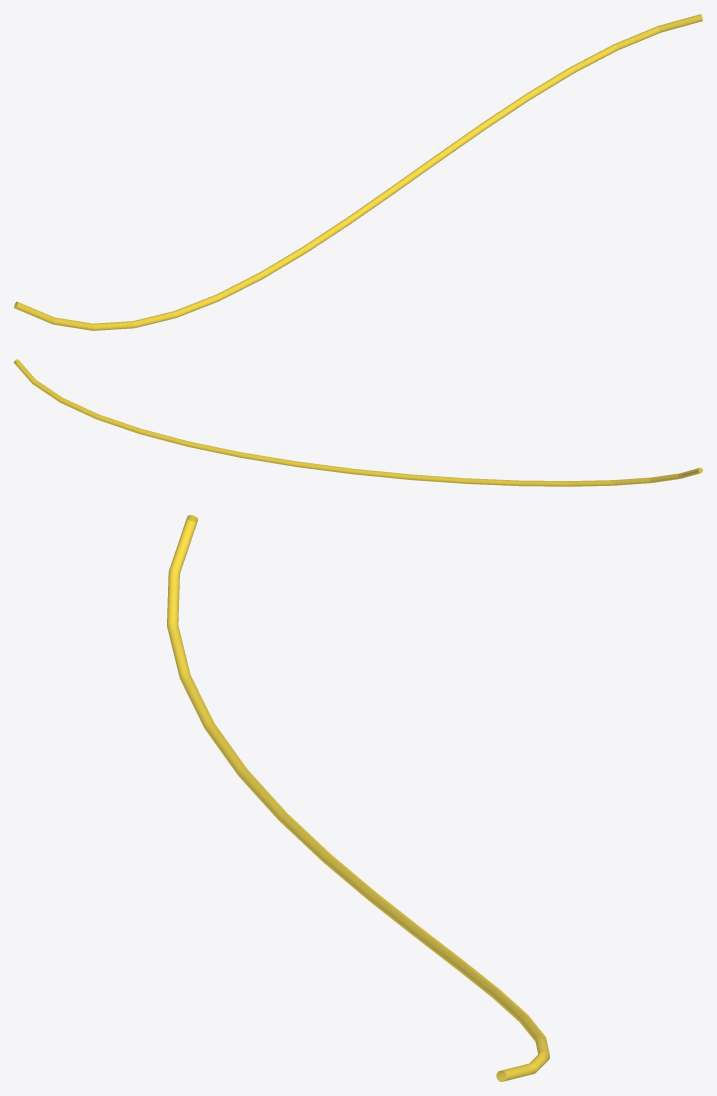
File: Event_75125125_track_101.fbx
3 views of the same model, one above another, from view 1: azimuth 30°, elevation 25°; view 2: azimuth 150°, elevation 25°; view 3: azimuth 270°, elevation 25° (orthographic). The views are drawn at different scales.
Visible parts, largest first — view 1: Model; view 2: Model; view 3: Model.
Boxes of the visible parts, x1,y1,x2,y2 form: Model: [14, 14, 702, 330]; Model: [14, 359, 702, 486]; Model: [167, 515, 549, 1081].
Bounding box in the file's own units: 4.93 × 0.5268 × 1.34.
